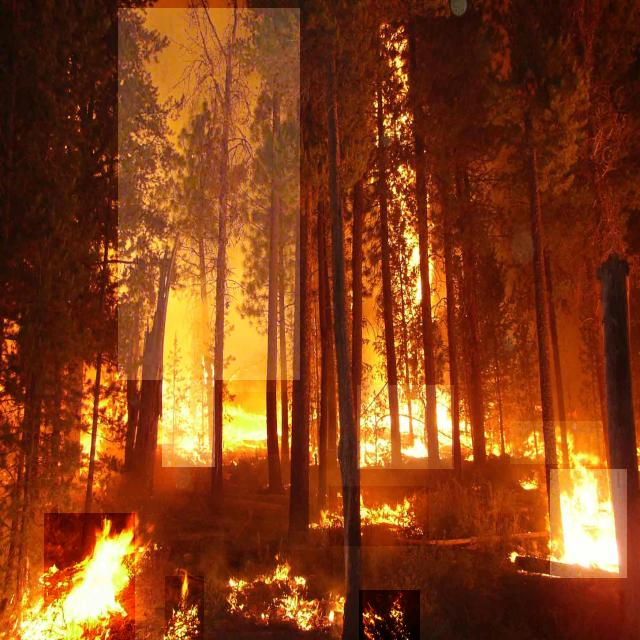Fire: (44, 513, 135, 640), (225, 550, 333, 632), (550, 469, 627, 578), (357, 385, 454, 469), (329, 486, 429, 546), (162, 365, 215, 467), (76, 388, 131, 473), (219, 392, 293, 454), (510, 421, 603, 464), (359, 590, 420, 640), (165, 576, 204, 640)
Smoke: (118, 8, 300, 380)
